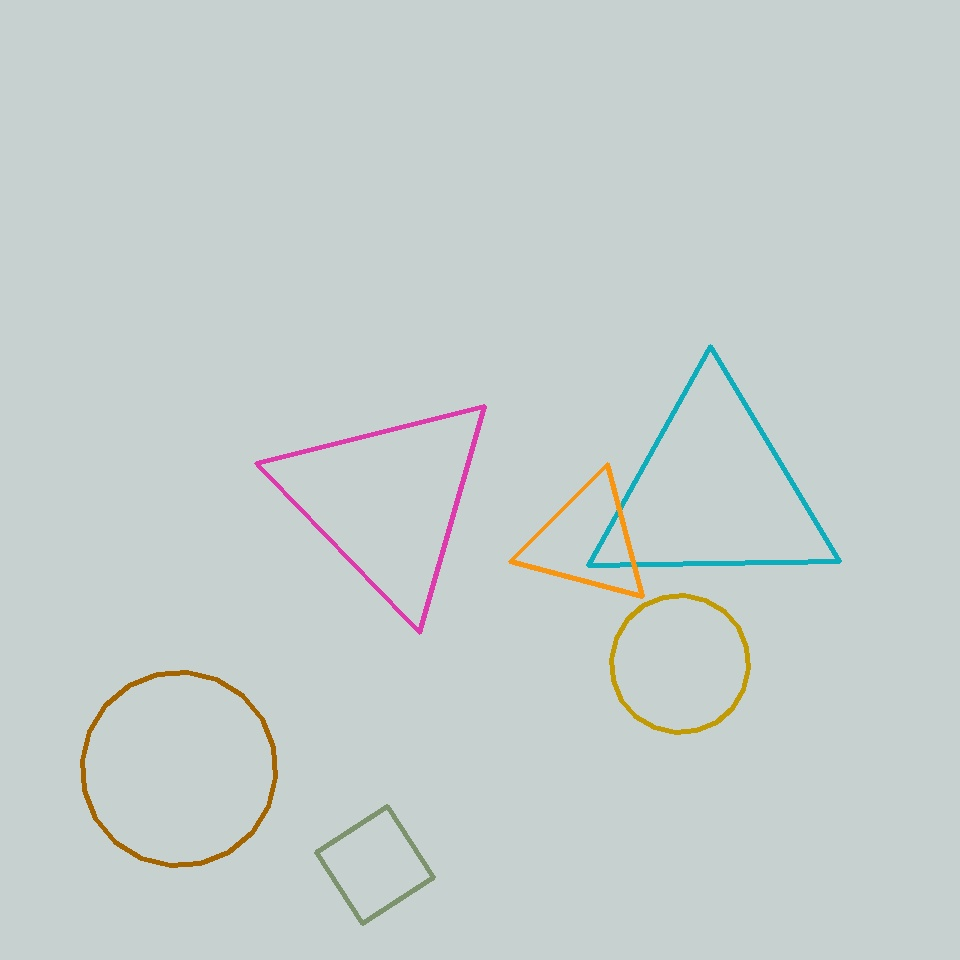circle: (588, 382, 838, 600), (273, 388, 501, 614), (521, 475, 653, 607)
square: (316, 806, 434, 924)
triangle: (82, 672, 276, 866), (612, 596, 749, 732)
